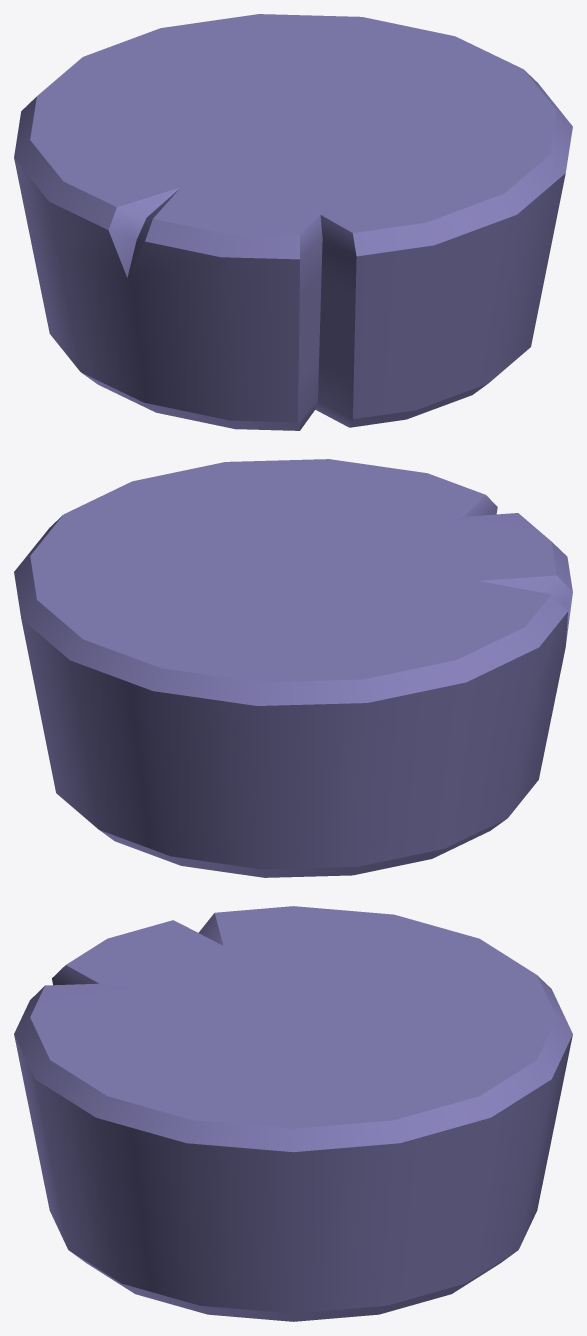
3 renders of one model, top to bottom at view 1: azimuth 30°, elevation 25°; view 2: azimuth 150°, elevation 25°; view 3: azimuth 270°, elevation 25°, orthographic.
Parts seen in each view (by area): view 1: circle; view 2: circle; view 3: circle.
Boxes of the visible parts, x1=… form: circle: x1=14, y1=14, x2=572, y2=430; circle: x1=14, y1=459, x2=572, y2=877; circle: x1=14, y1=906, x2=572, y2=1321.
Size of the model in its own units: 1.98 by 0.8207 by 1.98.
